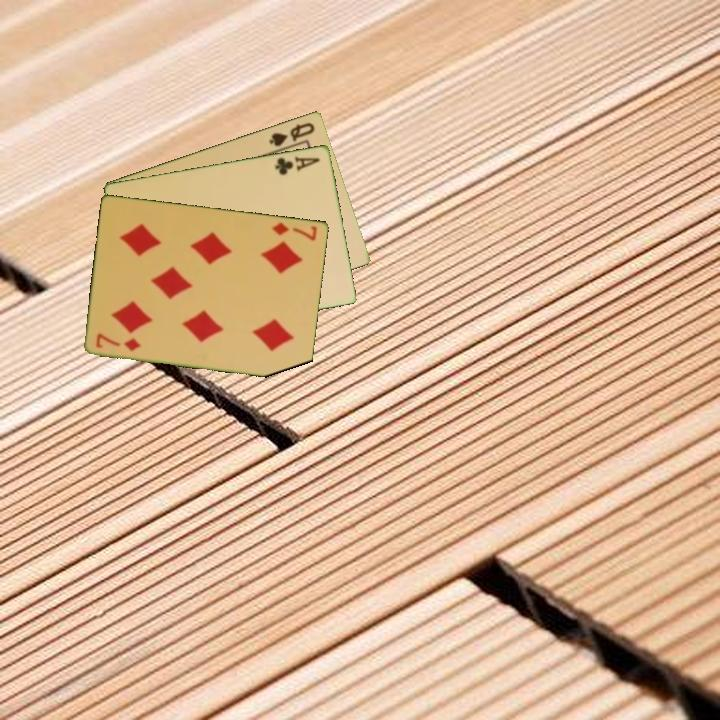7d: (93, 329, 144, 354), (269, 219, 320, 243)
Ac: (272, 152, 323, 178)
Qs: (266, 119, 318, 149)
